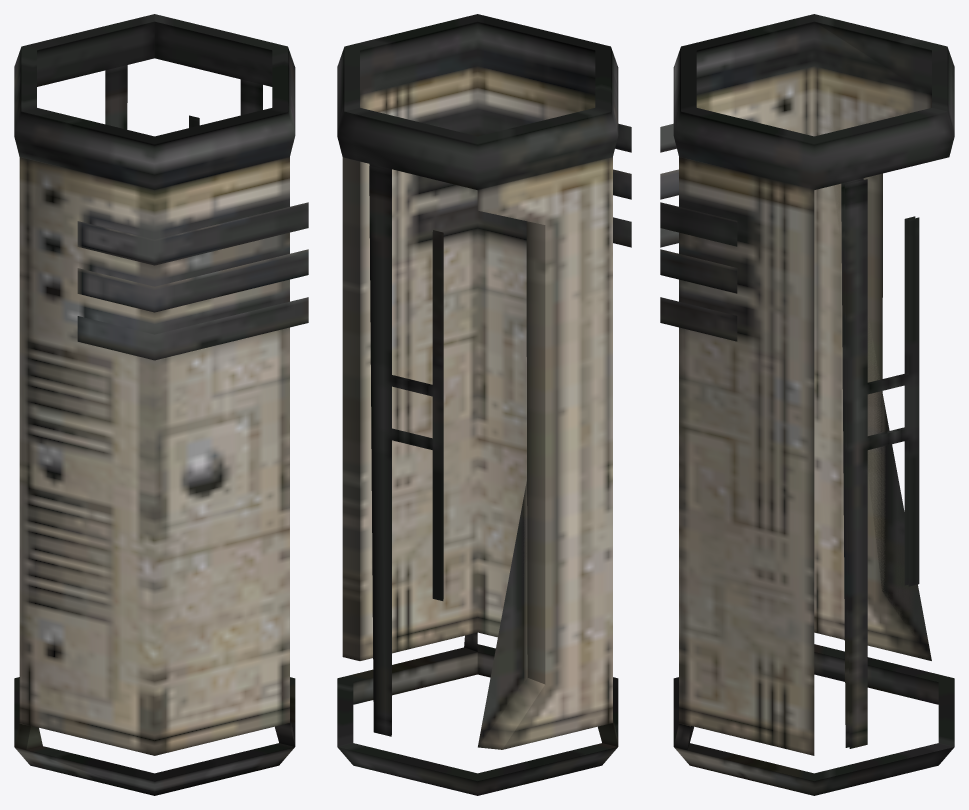
Rendered from eqp_comp_jedi_casing.fbx.
The picture shows the model from 3 angles, left to right: view 1: azimuth 30°, elevation 25°; view 2: azimuth 150°, elevation 25°; view 3: azimuth 270°, elevation 25°; orthographic projection.
Visible parts, largest first — view 1: mesh_node; view 2: mesh_node; view 3: mesh_node.
Part boxes in pixels (x1,y1,x2,y2): mesh_node: (14, 14, 308, 795); mesh_node: (337, 14, 631, 795); mesh_node: (660, 14, 954, 795).
Bounding box in the file's own units: 0.52 × 1.16 × 0.4721.
1 material, 1 textured.
